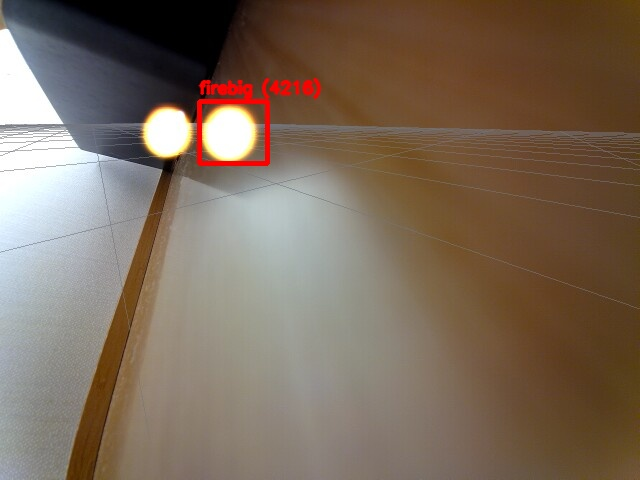firebig: (199, 101, 267, 163)
